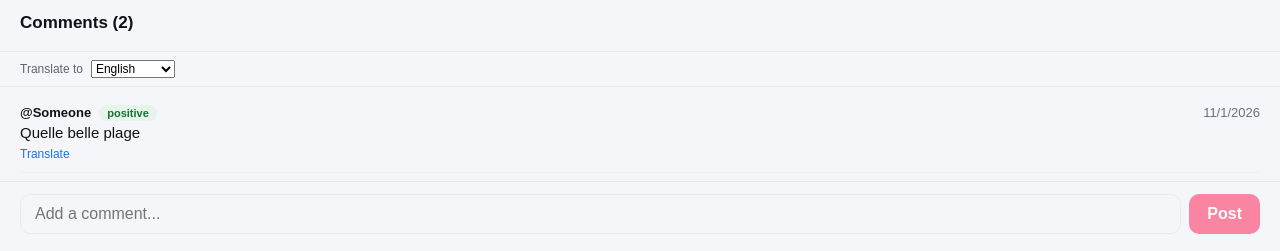
Scenario: CommentsPanel › translates a comment into the chosen language and can show the original again
Select "Spanish" in the dropdown labelled "Translate to" at (133, 69), box [91, 60, 175, 78]
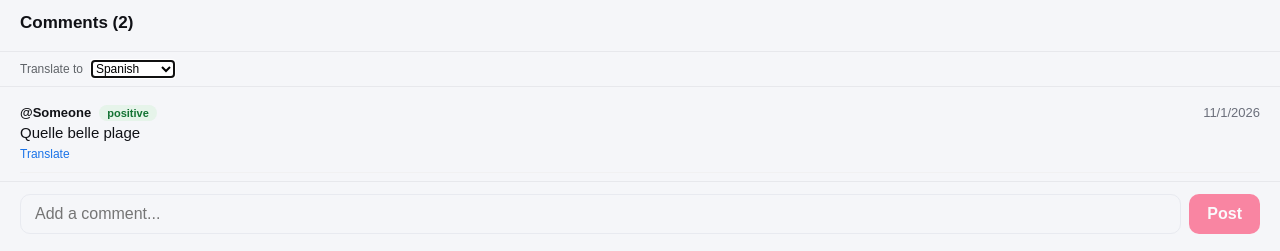
Click the button "Translate" at (45, 154), box [20, 147, 70, 161]
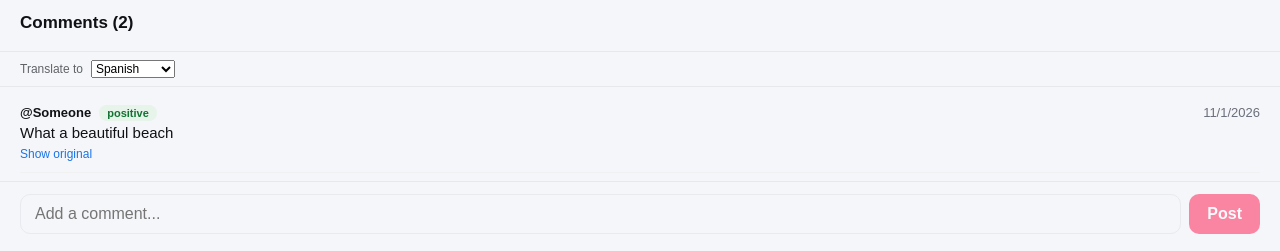
Now the text "What a beautiful beach" is shown, box [20, 124, 173, 141]
Click the button "Show original" at (56, 154), box [20, 147, 92, 161]
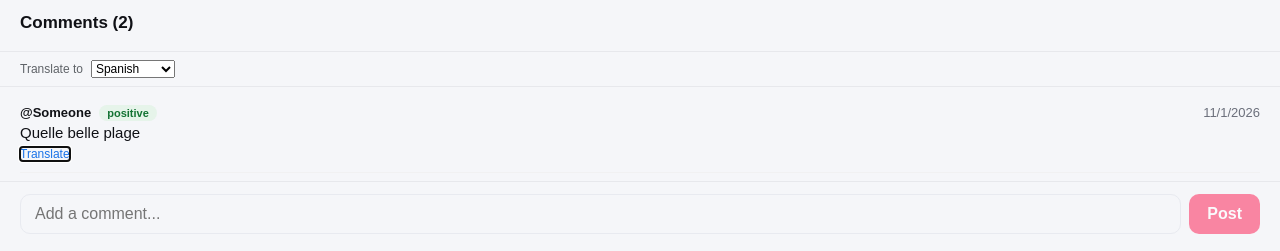
Now the text "Quelle belle plage" is shown, box [20, 124, 140, 141]
